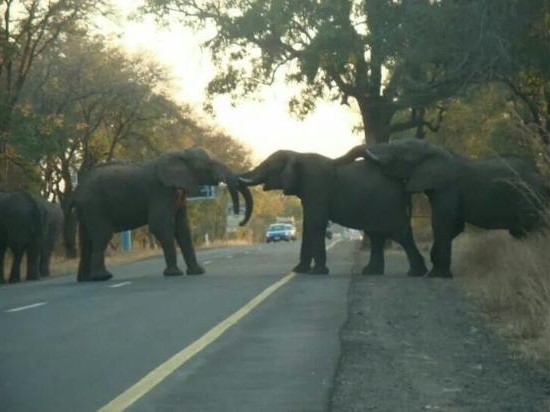Elephant: (238, 149, 425, 276), (378, 136, 547, 276), (67, 145, 234, 282), (1, 189, 63, 284)
Road: (1, 237, 361, 410)
